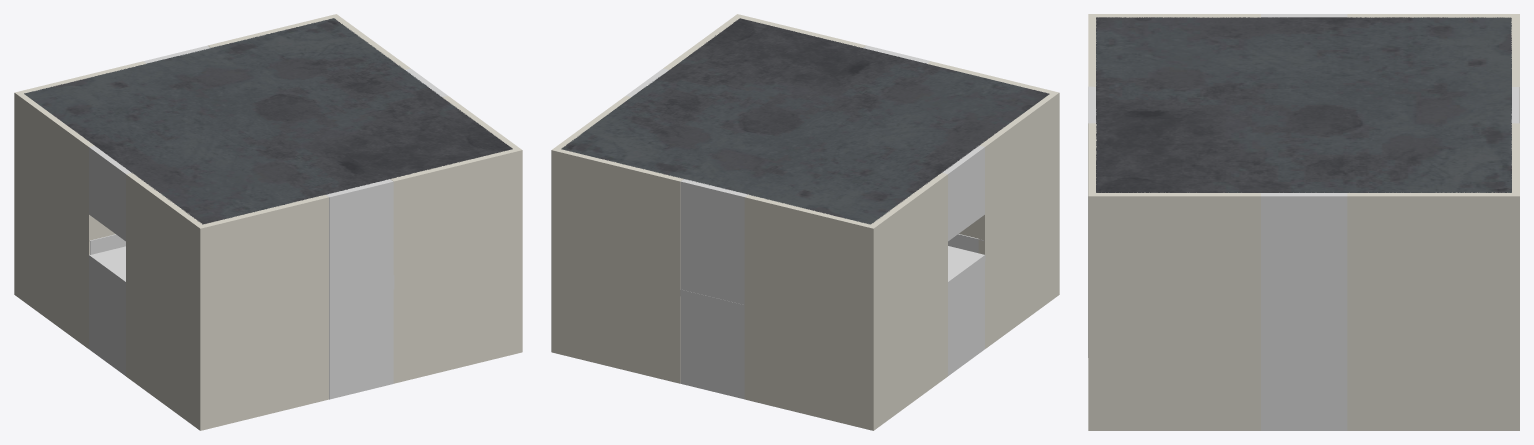
Rendered from ReactorRoom 2.fbx.
The picture shows the model from 3 angles, left to right: view 1: azimuth 30°, elevation 25°; view 2: azimuth 150°, elevation 25°; view 3: azimuth 270°, elevation 25°; orthographic projection. The views are drawn at different scales.
Visible parts, largest first — view 1: Cube.091, Cube.097, Cube.092, Cube.101, Cube.086, Cube.095; view 2: Cube.091, Cube.097, Cube.090, Cube.101, Cube.086; view 3: Cube.091, Cube.097, Cube.089, Cube.086, Cube.092.
Boxes of the visible parts, x1,y1,x2,y2 form: Cube.091: (14, 14, 522, 430); Cube.097: (24, 18, 512, 224); Cube.092: (326, 179, 393, 399); Cube.101: (89, 145, 131, 375); Cube.086: (89, 246, 125, 288); Cube.095: (90, 234, 125, 254); Cube.091: (551, 14, 1059, 430); Cube.097: (561, 18, 1049, 224); Cube.090: (680, 179, 748, 399); Cube.101: (942, 145, 984, 375); Cube.086: (680, 246, 985, 311); Cube.091: (1088, 14, 1519, 430); Cube.097: (1096, 17, 1511, 192); Cube.089: (1261, 193, 1347, 430); Cube.086: (1261, 321, 1347, 329); Cube.092: (1088, 86, 1096, 357).
Bounding box in the file's own units: 5000 × 3000 × 5003.
